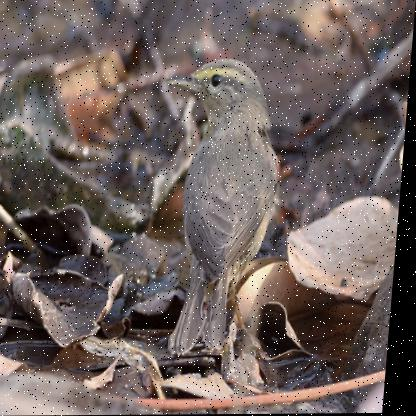Burung: (150, 57, 291, 347)
